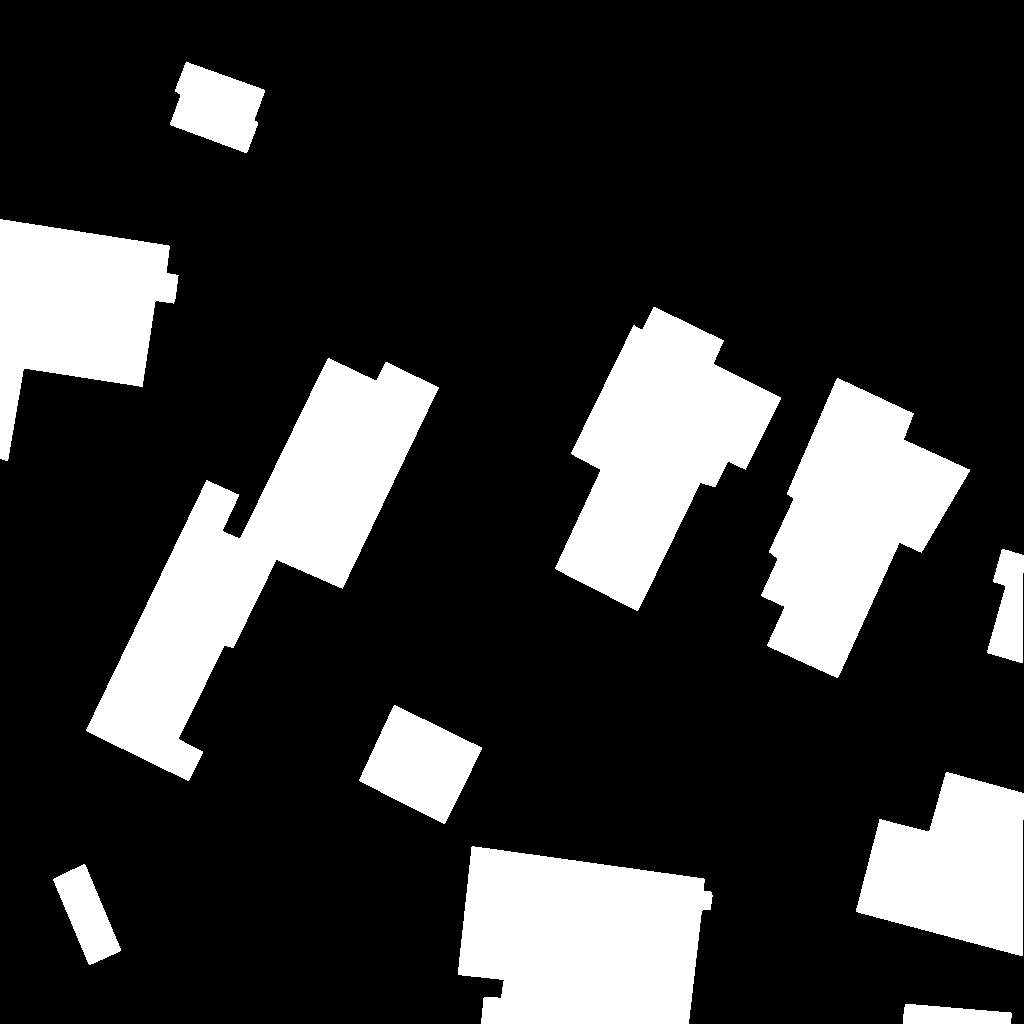building: (86, 358, 440, 782), (555, 307, 782, 612), (761, 378, 971, 679), (458, 846, 713, 1024), (0, 219, 179, 462), (856, 772, 1024, 957), (359, 705, 483, 825), (170, 62, 266, 154), (53, 864, 122, 966), (987, 549, 1024, 664), (903, 1004, 1013, 1024)
